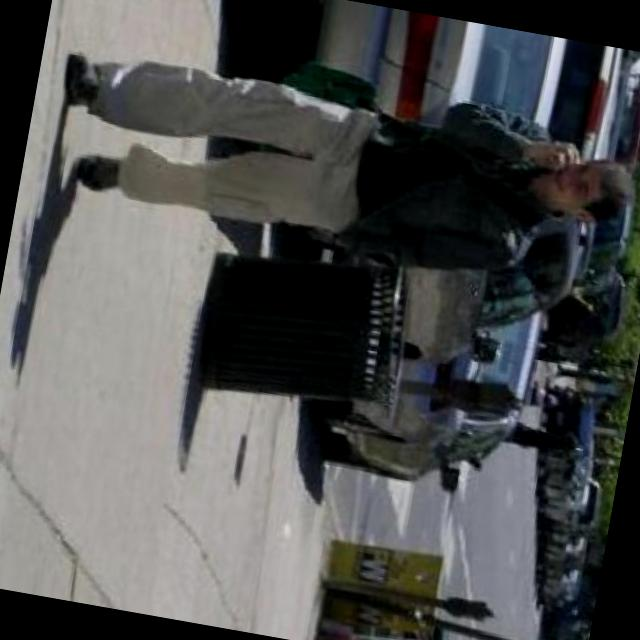Person: (27, 26, 640, 301)
